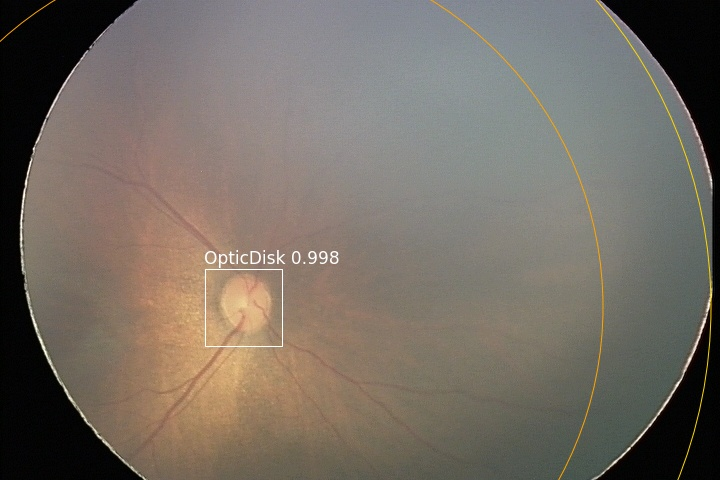Macula: (13, 263, 117, 367)
OpticDisk: (217, 272, 283, 338)
